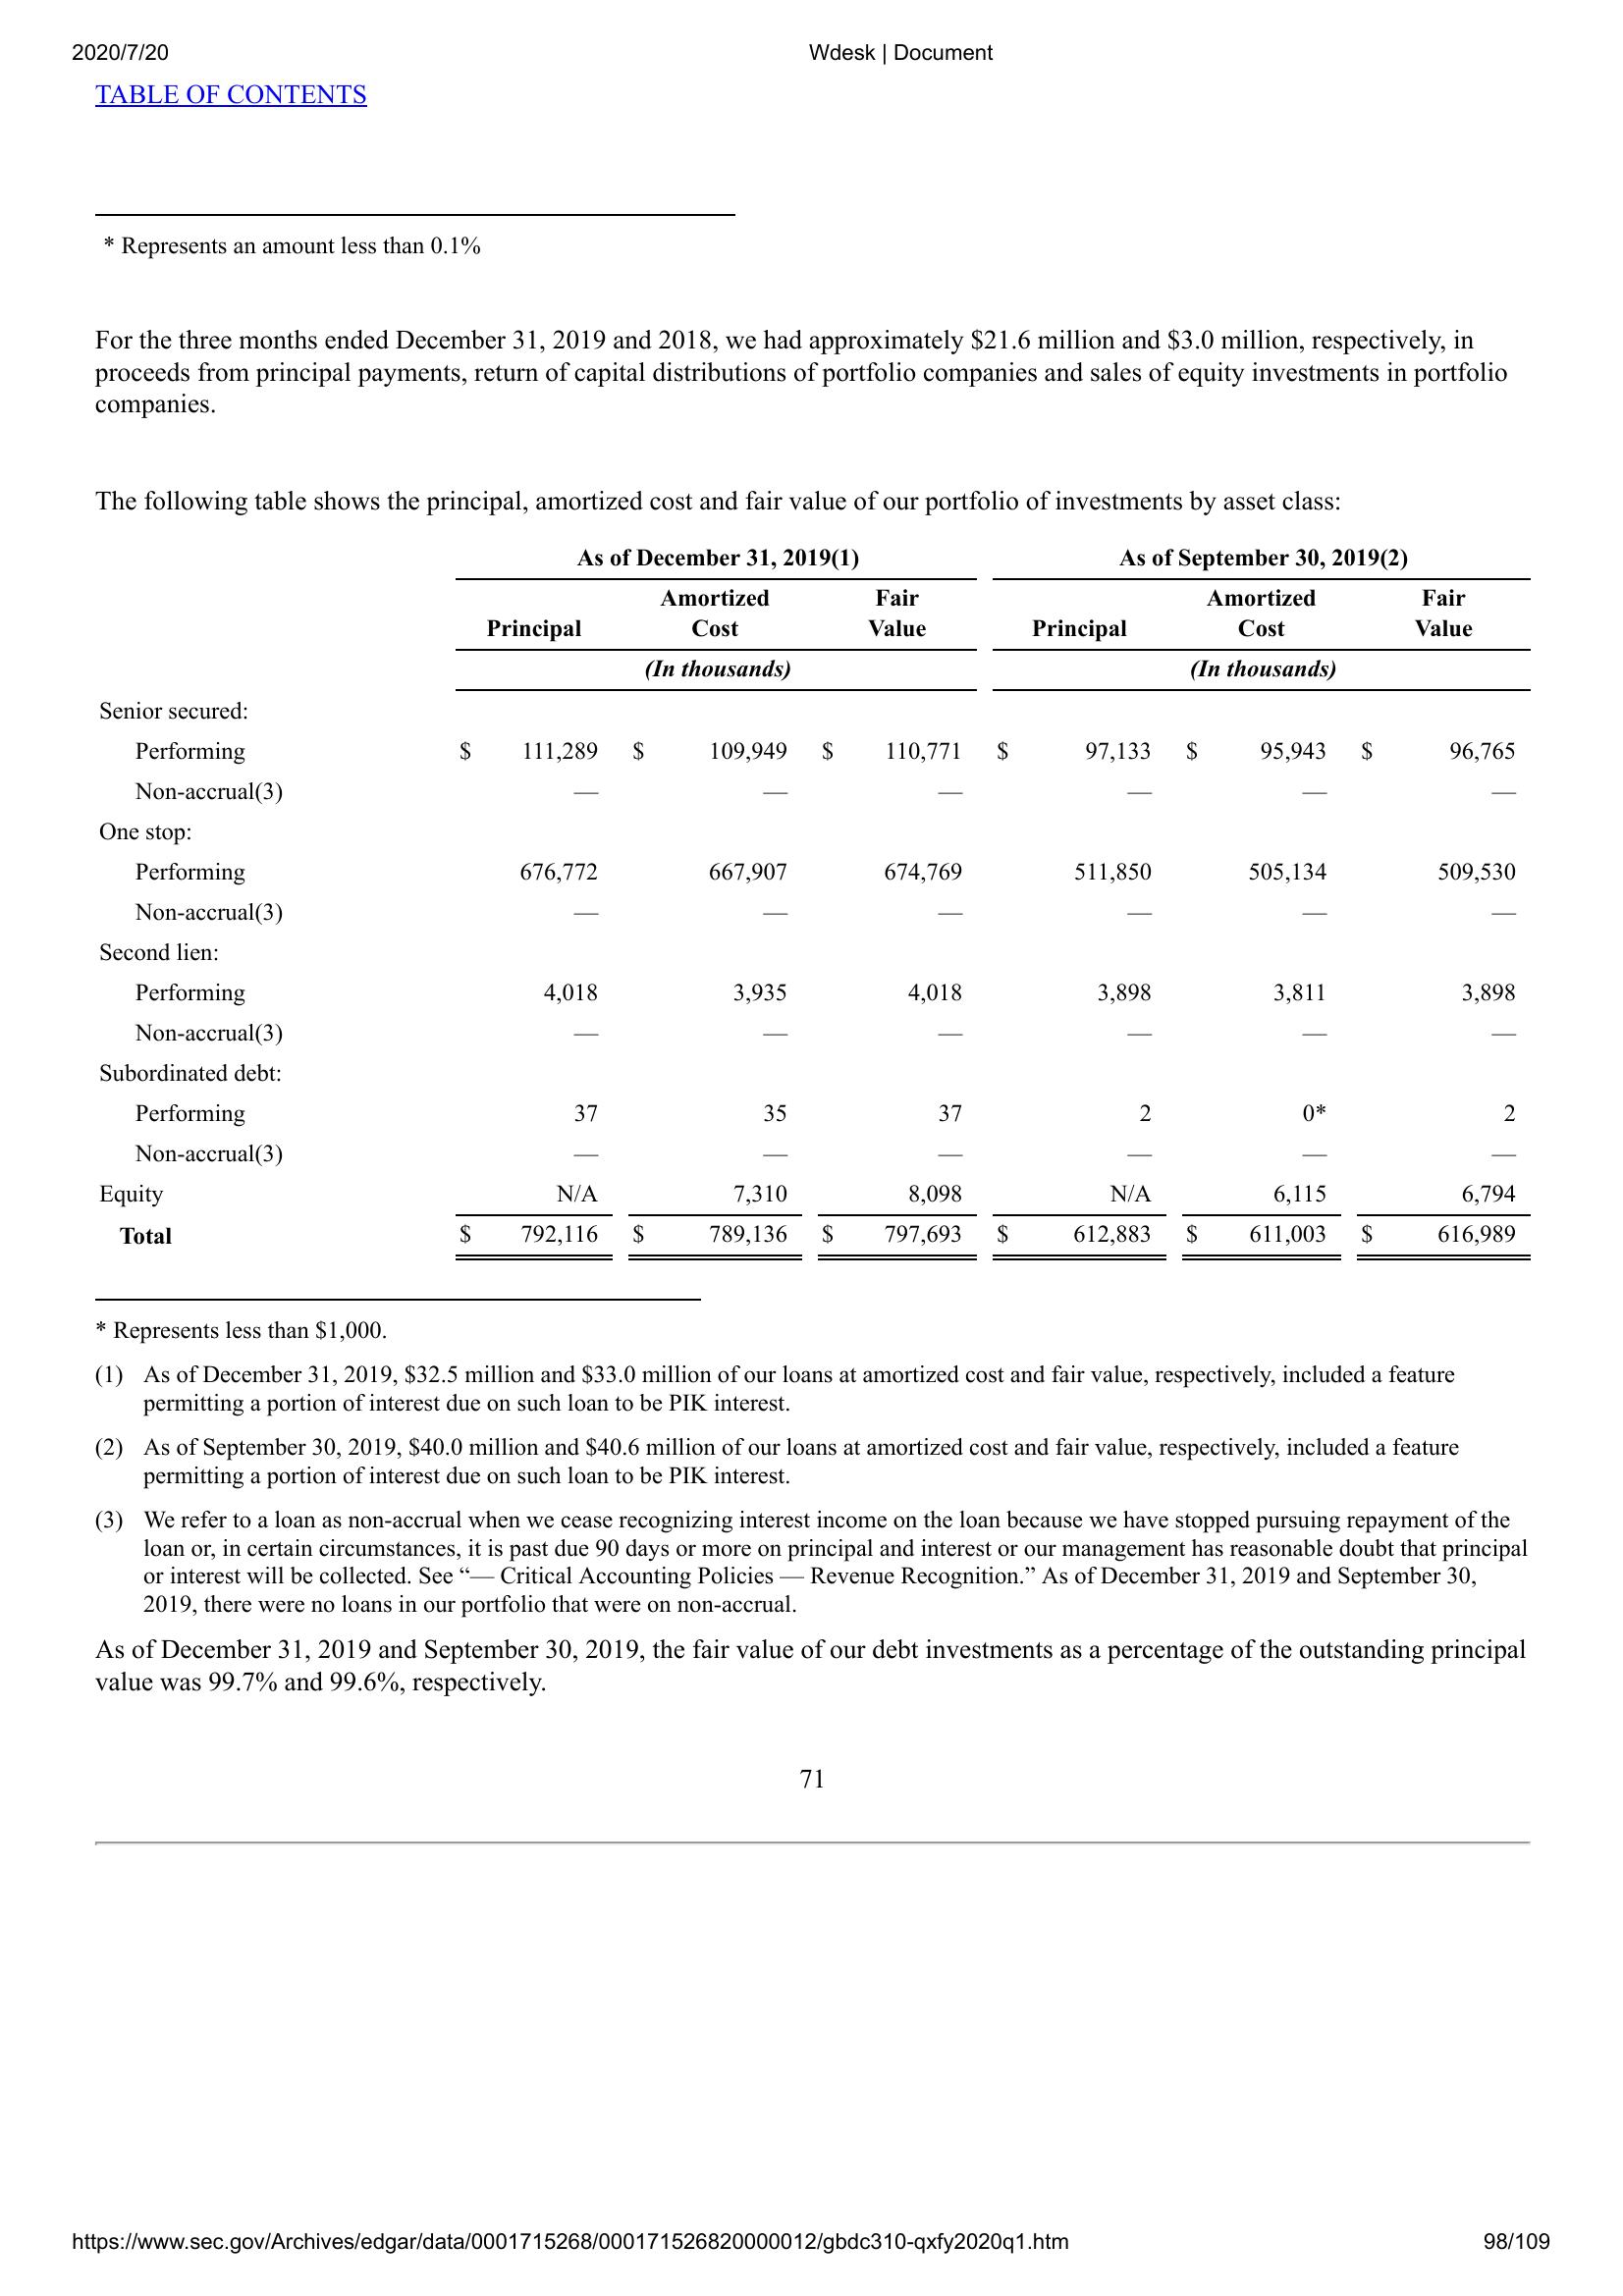table: (77, 544, 1540, 1273)
